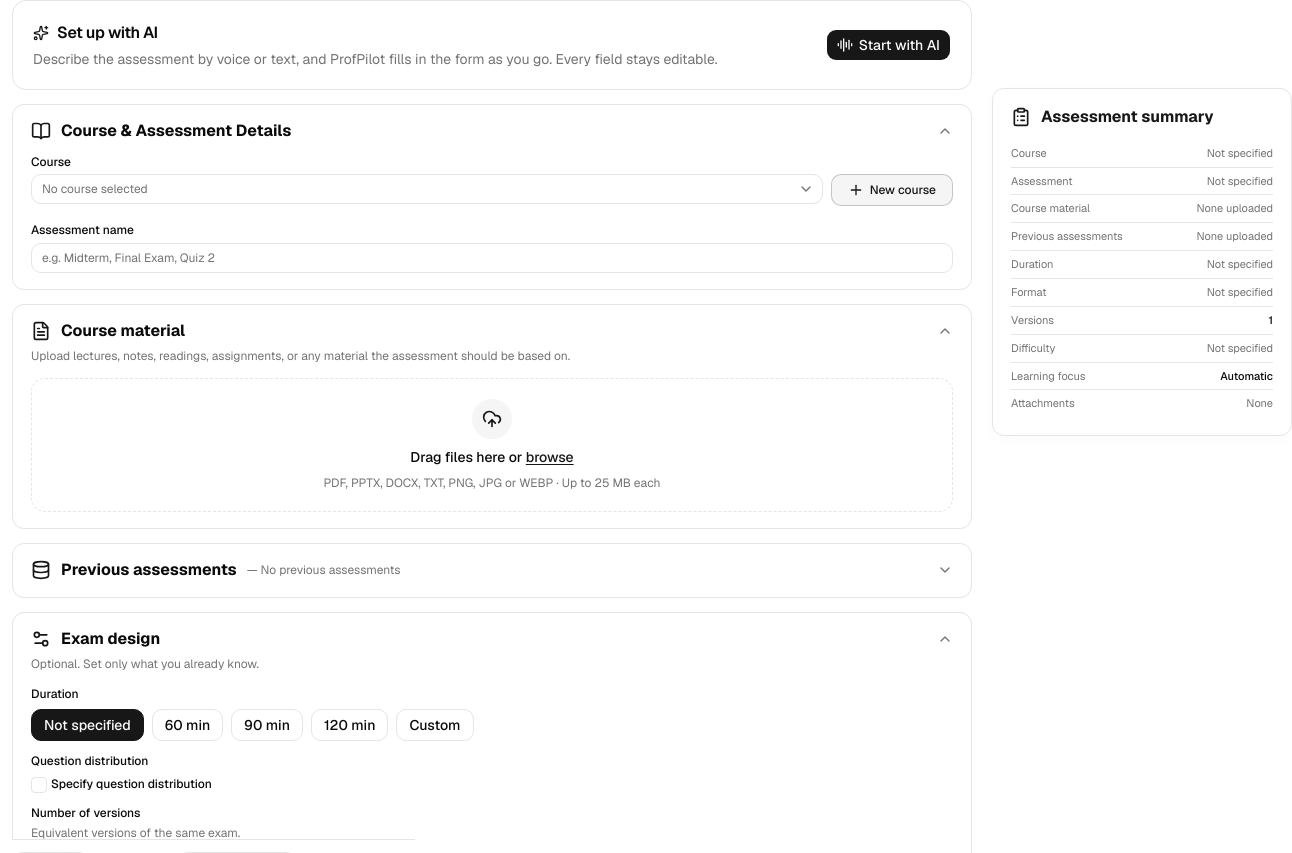
Test case: Clicking AI Assistant while already on the page opens the assistant
Type "Midterm" into the field labelled "Assessment name". click: (492, 258)
box: [31,243,953,273]
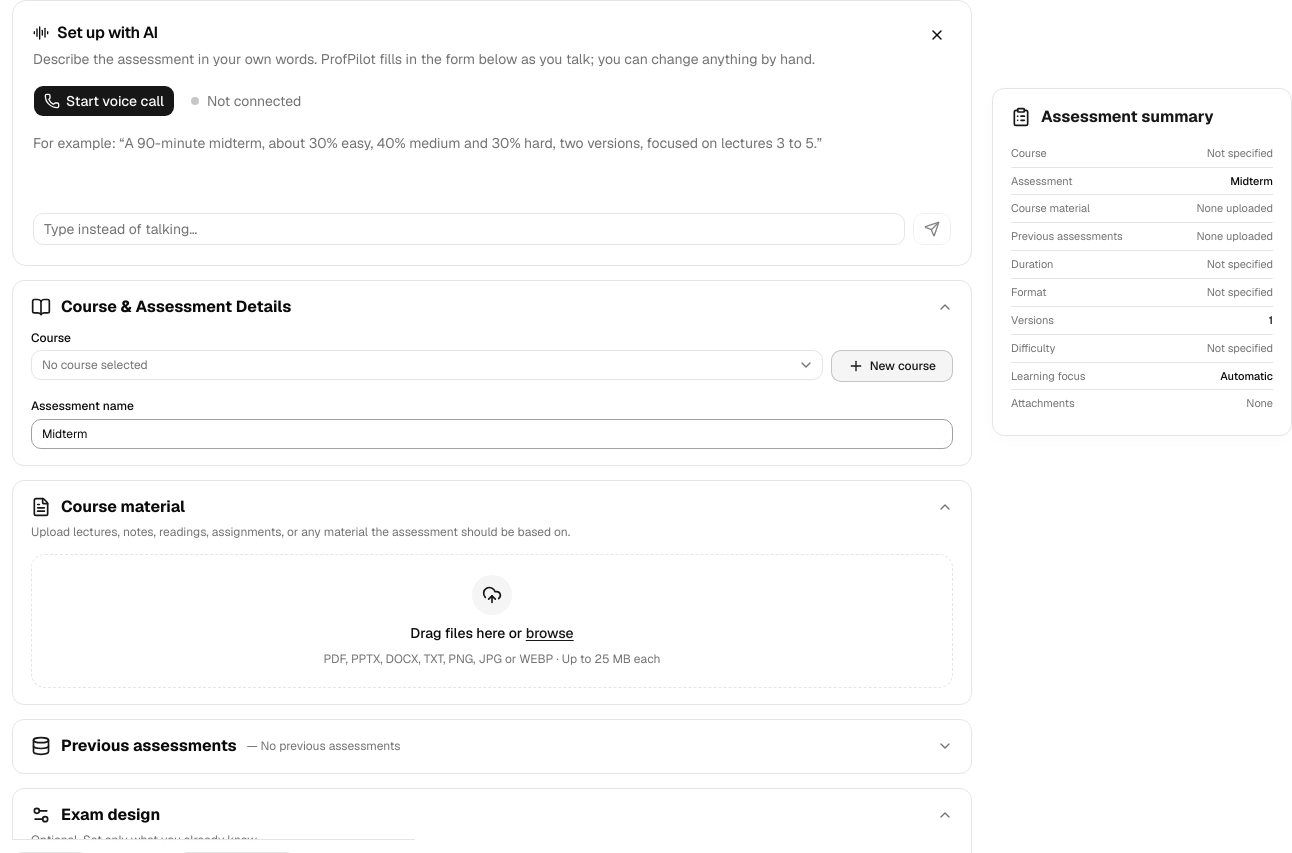
Check: the button named "Close Set up with AI" is shown, box [923,21,951,49]
